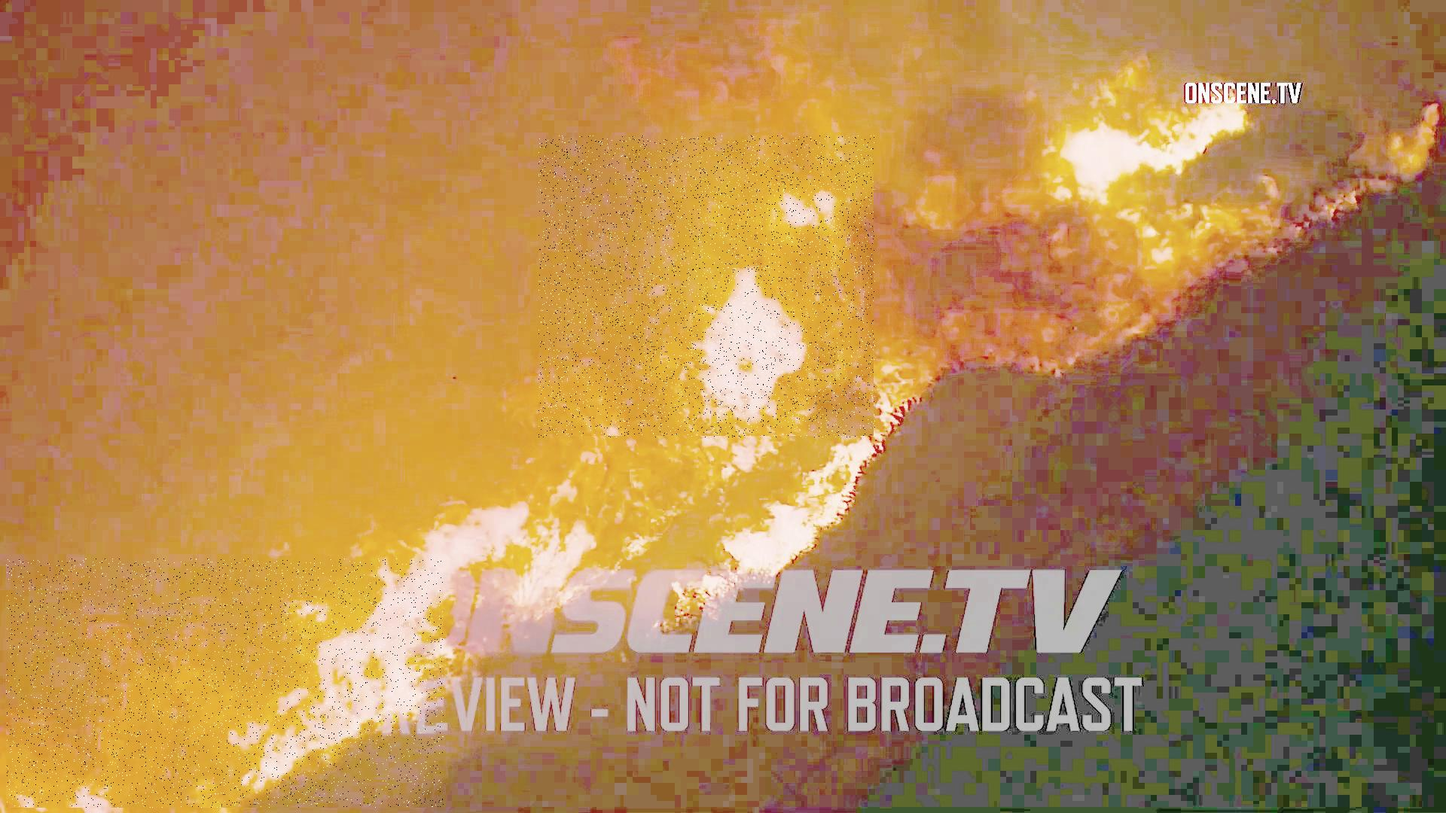fire: (6, 559, 444, 808), (539, 136, 876, 438)
